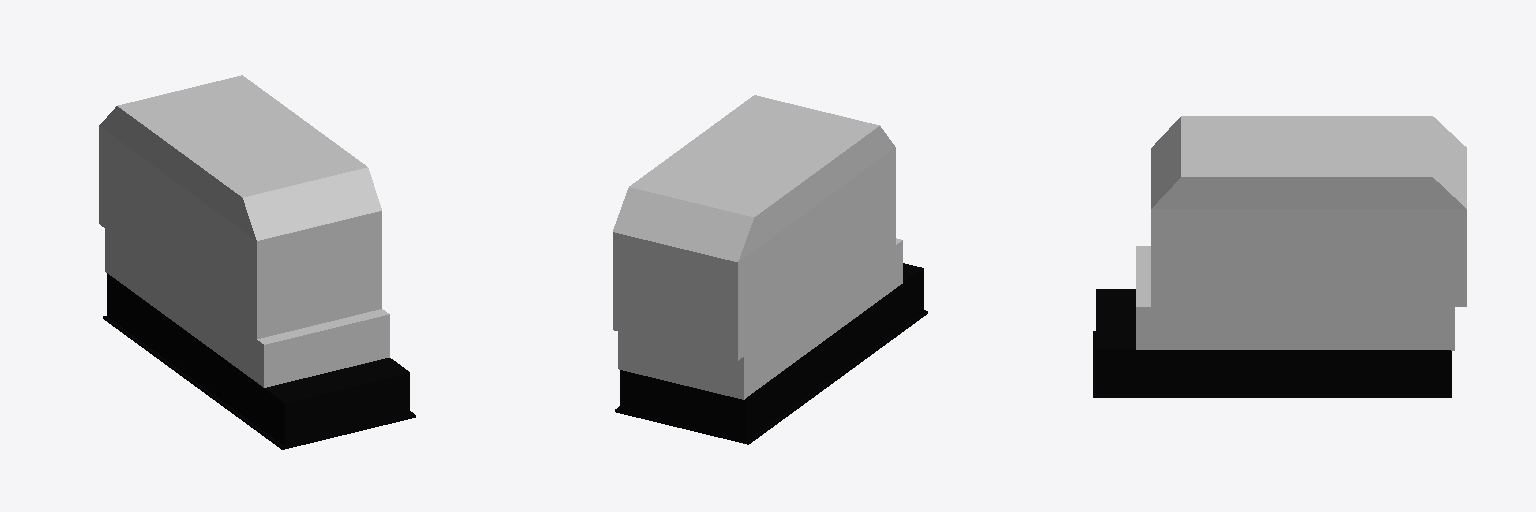
Rendered from OtherBuilding.obj.
The picture shows the model from 3 angles: view 1: azimuth 30°, elevation 25°; view 2: azimuth 150°, elevation 25°; view 3: azimuth 270°, elevation 25°; orthographic projection.
Visible parts, largest first — view 1: bygg10del1_Cube.001; view 2: bygg10del1_Cube.001; view 3: bygg10del1_Cube.001.
Boxes of the visible parts, x1,y1,x2,y2 form: bygg10del1_Cube.001: [99, 75, 415, 449]; bygg10del1_Cube.001: [613, 95, 927, 444]; bygg10del1_Cube.001: [1093, 116, 1466, 397].
Bounding box in the file's own units: 6.16 × 9.62 × 14.87.